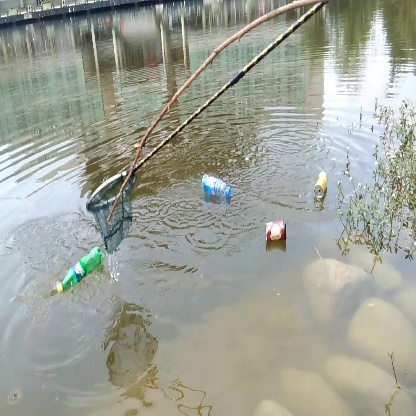bottle: (50, 246, 107, 296), (200, 171, 236, 202), (260, 216, 293, 247), (312, 170, 333, 201)
